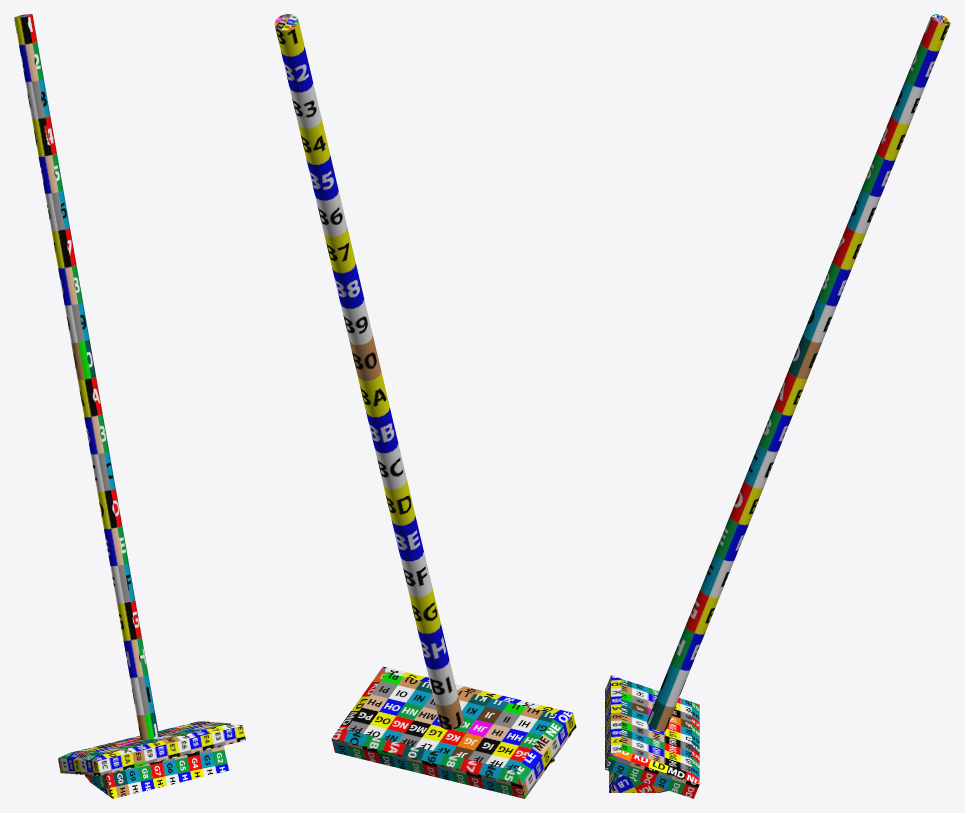
File: Broom2.FBX
3 renders of one model, left to right at view 1: azimuth 30°, elevation 25°; view 2: azimuth 150°, elevation 25°; view 3: azimuth 270°, elevation 25°, orthographic. The views are drawn at different scales.
Parts seen in each view (by area): view 1: Broom; view 2: Broom; view 3: Broom.
Part boxes in pixels (x1,y1,x2,y2): Broom: [14, 14, 245, 798]; Broom: [274, 14, 576, 798]; Broom: [605, 14, 950, 798].
Size of the model in its own units: 0.4484 by 1.95 by 0.8205.
Materials: 1 (1 with a texture image).
